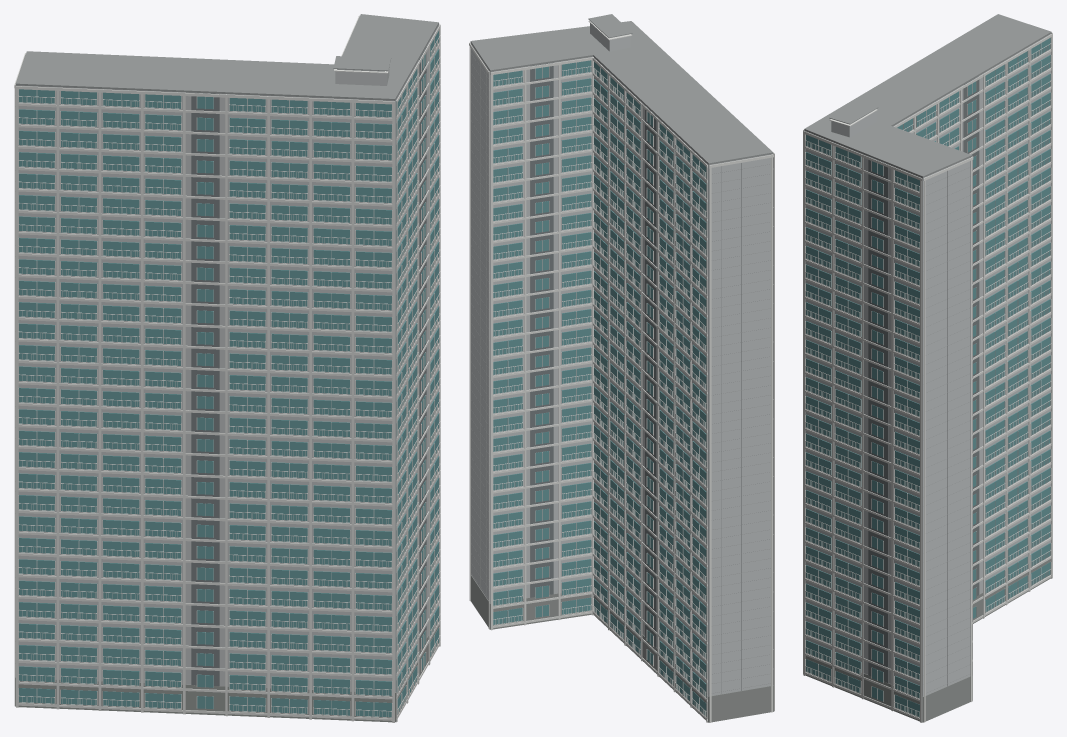
Rendered from bespoke-jamsil-ricenz-218.glb.
The picture shows the model from 3 angles, left to right: view 1: azimuth 30°, elevation 25°; view 2: azimuth 150°, elevation 25°; view 3: azimuth 270°, elevation 25°; orthographic projection. The views are drawn at different scales.
Parts seen in each view (by area): view 1: Ricenz218_editable_Ricenz218_turquoise_balcony_glazing, Ricenz218_editable_Ricenz218_light_grey_solid_wall, Ricenz218_white_exact_chunk_3, Ricenz218_white_exact_chunk_1, Ricenz218_white_exact_chunk_0, Ricenz218_white_exact_chunk_2, Ricenz218_editable_Ricenz218_modest_grey_flat_roof_caps, Ricenz218_white_exact_chunk_4, Ricenz218_editable_Ricenz218_narrow_charcoal_service_strips, Ricenz218_editable_Ricenz218_muted_ground_wall; view 2: Ricenz218_editable_Ricenz218_light_grey_solid_wall, Ricenz218_editable_Ricenz218_turquoise_balcony_glazing, Ricenz218_white_exact_chunk_5, Ricenz218_editable_Ricenz218_modest_grey_flat_roof_caps, Ricenz218_white_exact_chunk_8, Ricenz218_white_exact_chunk_7, Ricenz218_editable_Ricenz218_narrow_charcoal_service_strips, Ricenz218_white_exact_chunk_6, Ricenz218_white_exact_chunk_4, Ricenz218_editable_Ricenz218_muted_ground_wall, Ricenz218_white_exact_chunk_0, Ricenz218_white_exact_chunk_3; view 3: Ricenz218_editable_Ricenz218_turquoise_balcony_glazing, Ricenz218_editable_Ricenz218_light_grey_solid_wall, Ricenz218_white_exact_chunk_4, Ricenz218_white_exact_chunk_7, Ricenz218_editable_Ricenz218_modest_grey_flat_roof_caps, Ricenz218_white_exact_chunk_8, Ricenz218_white_exact_chunk_3, Ricenz218_editable_Ricenz218_narrow_charcoal_service_strips, Ricenz218_editable_Ricenz218_muted_ground_wall, Ricenz218_white_exact_chunk_6, Ricenz218_white_exact_chunk_5.
Part boxes in pixels (left/top/right/bottom): Ricenz218_editable_Ricenz218_turquoise_balcony_glazing: left=19, top=31, right=438, bottom=717; Ricenz218_editable_Ricenz218_light_grey_solid_wall: left=16, top=24, right=438, bottom=692; Ricenz218_white_exact_chunk_3: left=15, top=86, right=418, bottom=722; Ricenz218_white_exact_chunk_1: left=101, top=93, right=267, bottom=715; Ricenz218_white_exact_chunk_0: left=14, top=53, right=140, bottom=710; Ricenz218_white_exact_chunk_2: left=227, top=98, right=392, bottom=720; Ricenz218_editable_Ricenz218_modest_grey_flat_roof_caps: left=15, top=14, right=438, bottom=652; Ricenz218_white_exact_chunk_4: left=396, top=23, right=440, bottom=722; Ricenz218_editable_Ricenz218_narrow_charcoal_service_strips: left=191, top=46, right=426, bottom=685; Ricenz218_editable_Ricenz218_muted_ground_wall: left=15, top=621, right=439, bottom=722; Ricenz218_editable_Ricenz218_light_grey_solid_wall: left=470, top=23, right=773, bottom=696; Ricenz218_editable_Ricenz218_turquoise_balcony_glazing: left=493, top=60, right=706, bottom=715; Ricenz218_white_exact_chunk_5: left=490, top=57, right=607, bottom=630; Ricenz218_editable_Ricenz218_modest_grey_flat_roof_caps: left=470, top=14, right=773, bottom=693; Ricenz218_white_exact_chunk_8: left=588, top=20, right=707, bottom=722; Ricenz218_white_exact_chunk_7: left=626, top=97, right=707, bottom=720; Ricenz218_editable_Ricenz218_narrow_charcoal_service_strips: left=530, top=62, right=656, bottom=647; Ricenz218_white_exact_chunk_6: left=592, top=61, right=640, bottom=658; Ricenz218_white_exact_chunk_4: left=469, top=42, right=524, bottom=629; Ricenz218_editable_Ricenz218_muted_ground_wall: left=471, top=575, right=773, bottom=722; Ricenz218_white_exact_chunk_0: left=709, top=154, right=773, bottom=722; Ricenz218_white_exact_chunk_3: left=641, top=30, right=774, bottom=711; Ricenz218_editable_Ricenz218_turquoise_balcony_glazing: left=806, top=38, right=1050, bottom=716; Ricenz218_editable_Ricenz218_light_grey_solid_wall: left=804, top=33, right=1051, bottom=696; Ricenz218_white_exact_chunk_4: left=803, top=131, right=973, bottom=722; Ricenz218_white_exact_chunk_7: left=946, top=51, right=1051, bottom=622; Ricenz218_editable_Ricenz218_modest_grey_flat_roof_caps: left=804, top=14, right=1051, bottom=693; Ricenz218_white_exact_chunk_8: left=829, top=33, right=1052, bottom=618; Ricenz218_white_exact_chunk_3: left=803, top=129, right=861, bottom=696; Ricenz218_editable_Ricenz218_narrow_charcoal_service_strips: left=868, top=76, right=979, bottom=682; Ricenz218_editable_Ricenz218_muted_ground_wall: left=805, top=556, right=1050, bottom=722; Ricenz218_white_exact_chunk_6: left=903, top=91, right=960, bottom=150; Ricenz218_white_exact_chunk_5: left=972, top=156, right=973, bottom=700.
Bounding box in the file's own units: 55.19 × 88.16 × 35.63.
